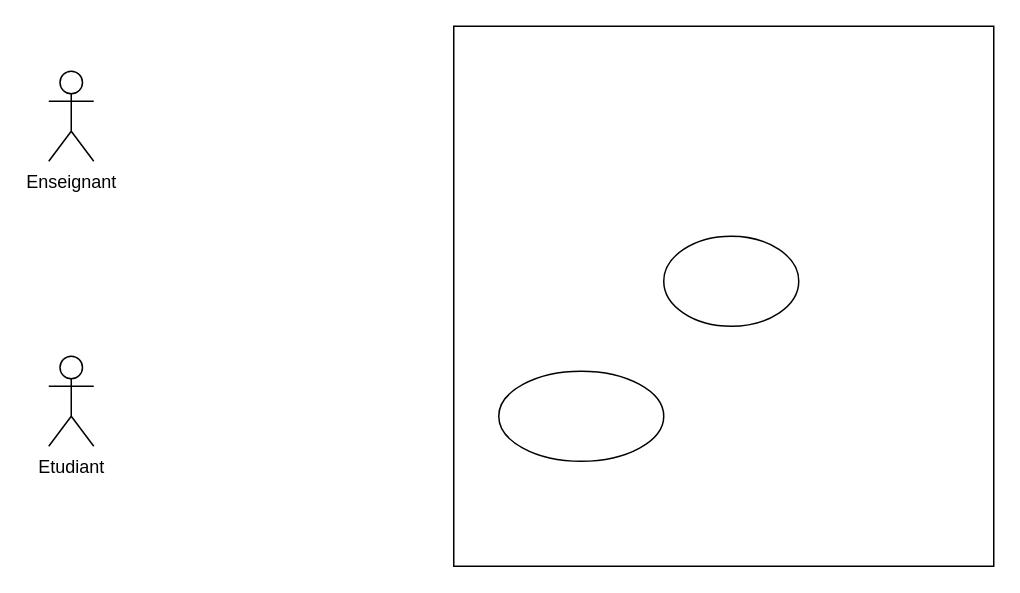
The diagram is 1020 pixels wide and 593 high, and some of its shapes have lost their labels. Each missing label, with the box of its shape:
Consulter planning des salles: (497, 370, 664, 461)
Reserver salle: (662, 235, 799, 326)
